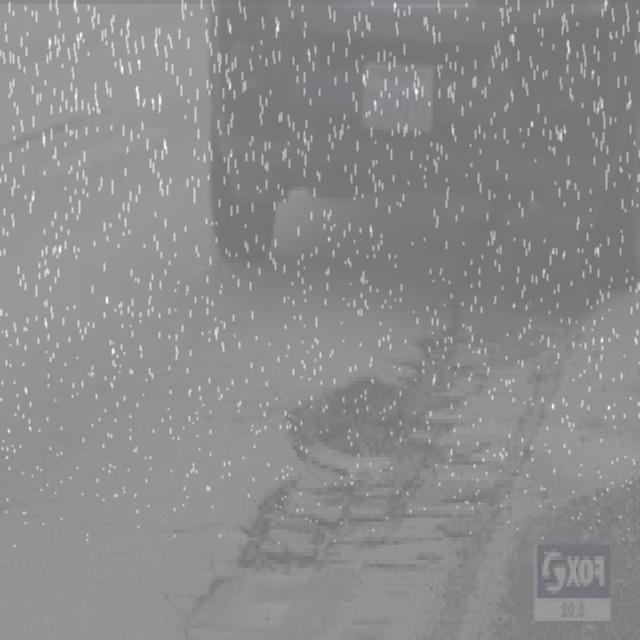Pothole: (263, 352, 464, 482), (255, 464, 391, 584)
